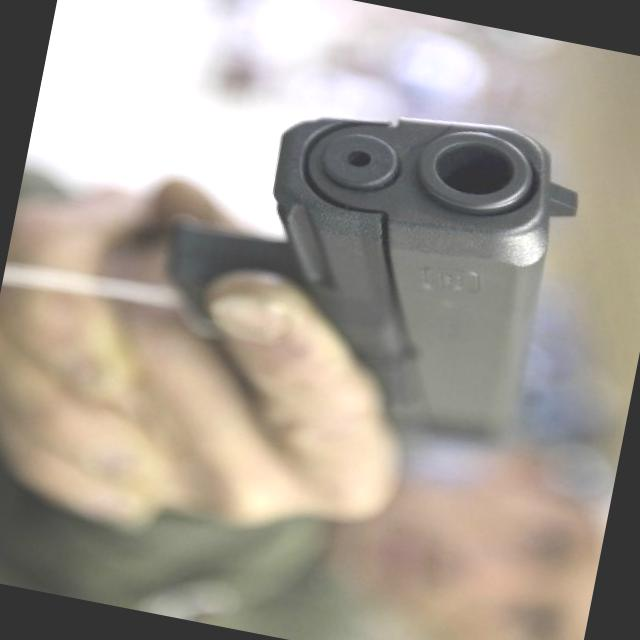handgun: (146, 66, 596, 452)
